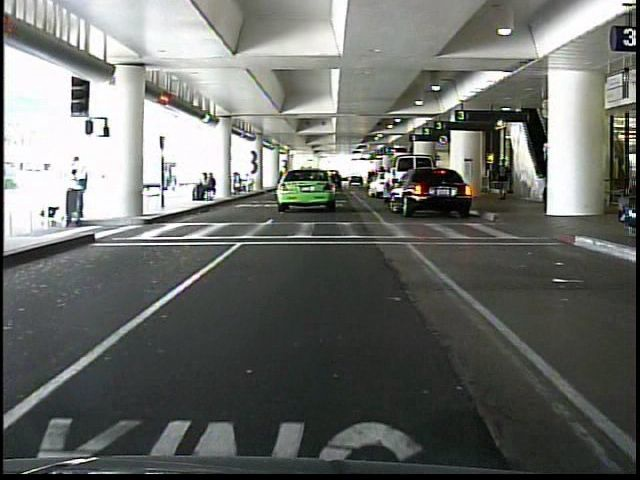person: (65, 154, 98, 231), (495, 159, 511, 204)
